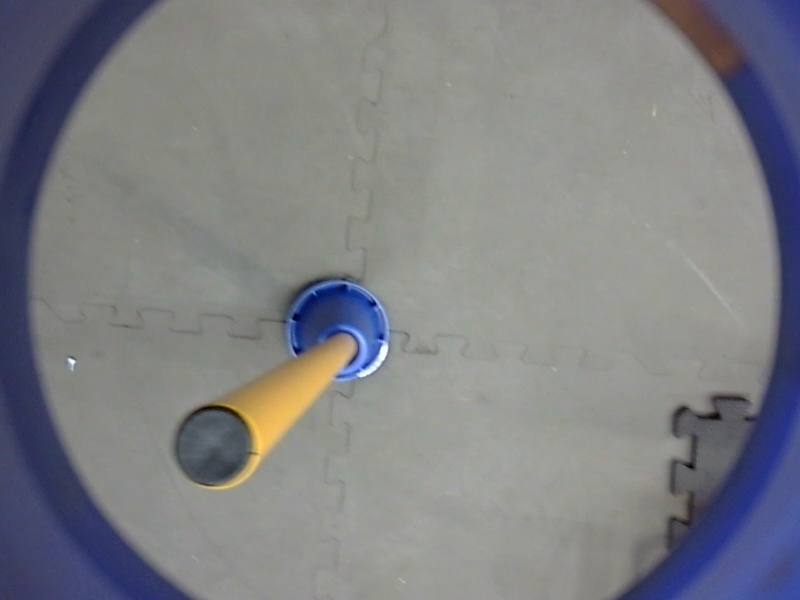tip: (166, 397, 266, 496)
